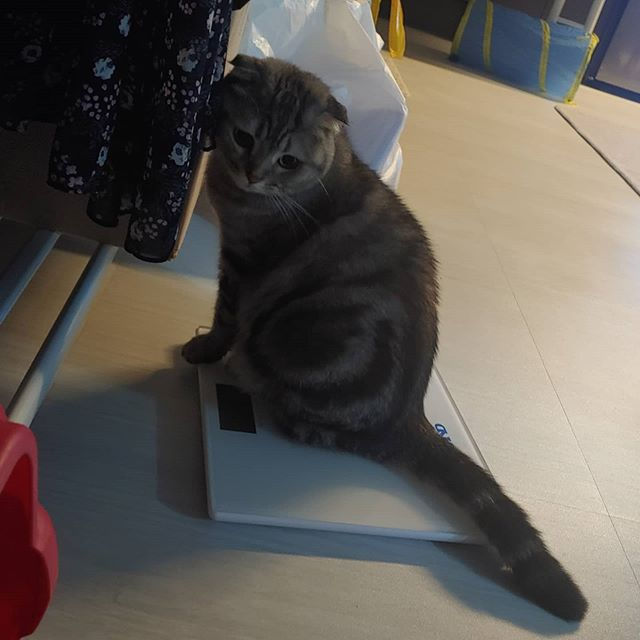cat: (207, 53, 358, 204)
